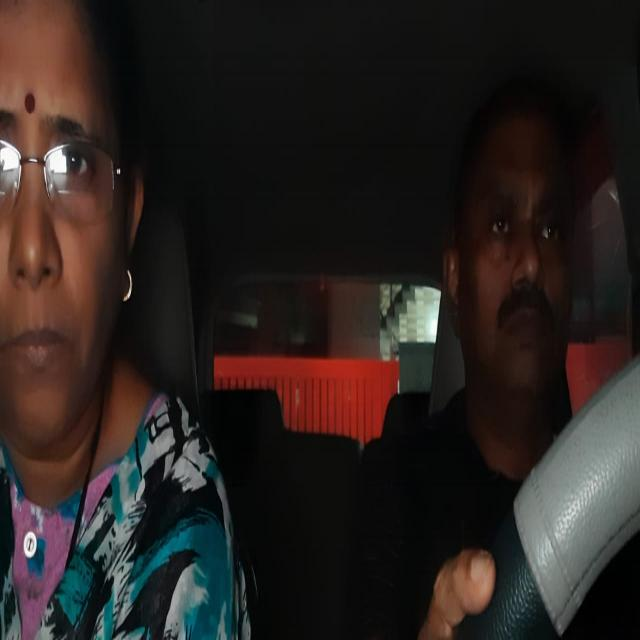person: (1, 1, 149, 456), (439, 87, 587, 419)
